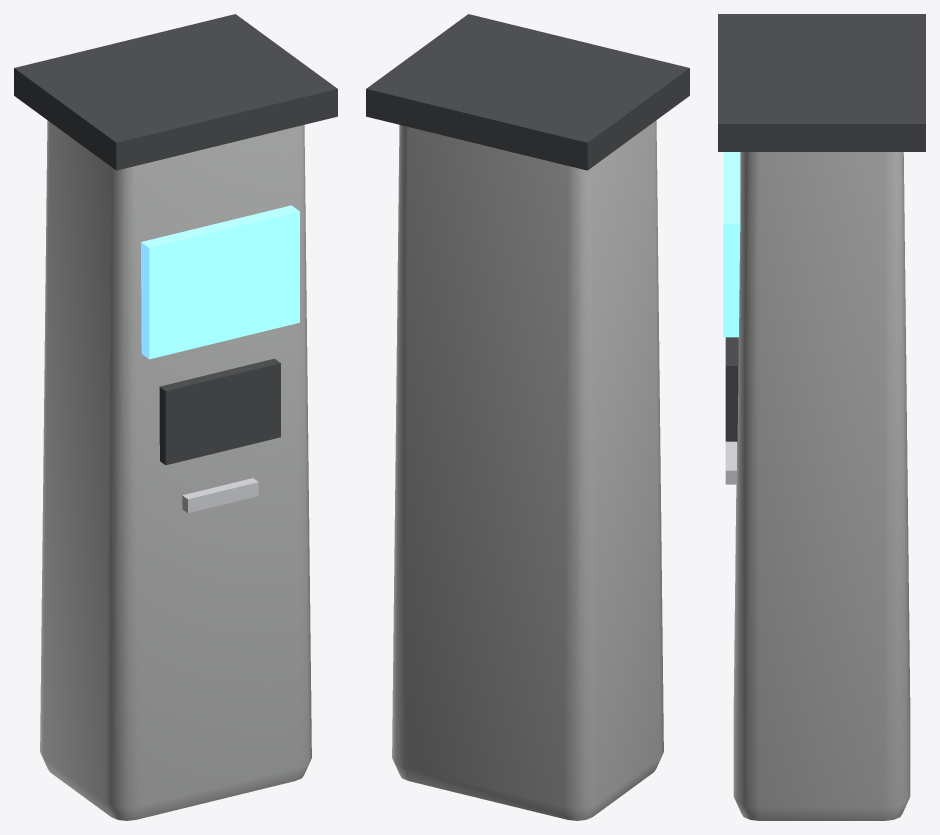
File: car-park-and-road-vehicle-fleet-ticket-machine-58f3eac2__32552.glb
3 views of the same model, side by side, from view 1: azimuth 30°, elevation 25°; view 2: azimuth 150°, elevation 25°; view 3: azimuth 270°, elevation 25° (orthographic).
Visible parts, largest first — view 1: ticket-machine; view 2: ticket-machine; view 3: ticket-machine.
Boxes of the visible parts, x1,y1,x2,y2 form: ticket-machine: [14, 14, 337, 820]; ticket-machine: [366, 14, 689, 820]; ticket-machine: [718, 14, 925, 820].
Bounding box in the file's own units: 0.5 × 1.51 × 0.4.
